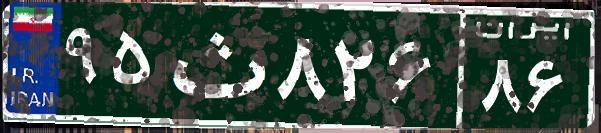2: (330, 28, 385, 110)
5: (110, 28, 158, 105)
6: (385, 28, 445, 110), (525, 38, 570, 115)
8: (273, 28, 330, 110), (475, 38, 525, 113)
9: (57, 26, 110, 107)
ث: (158, 15, 273, 115)
